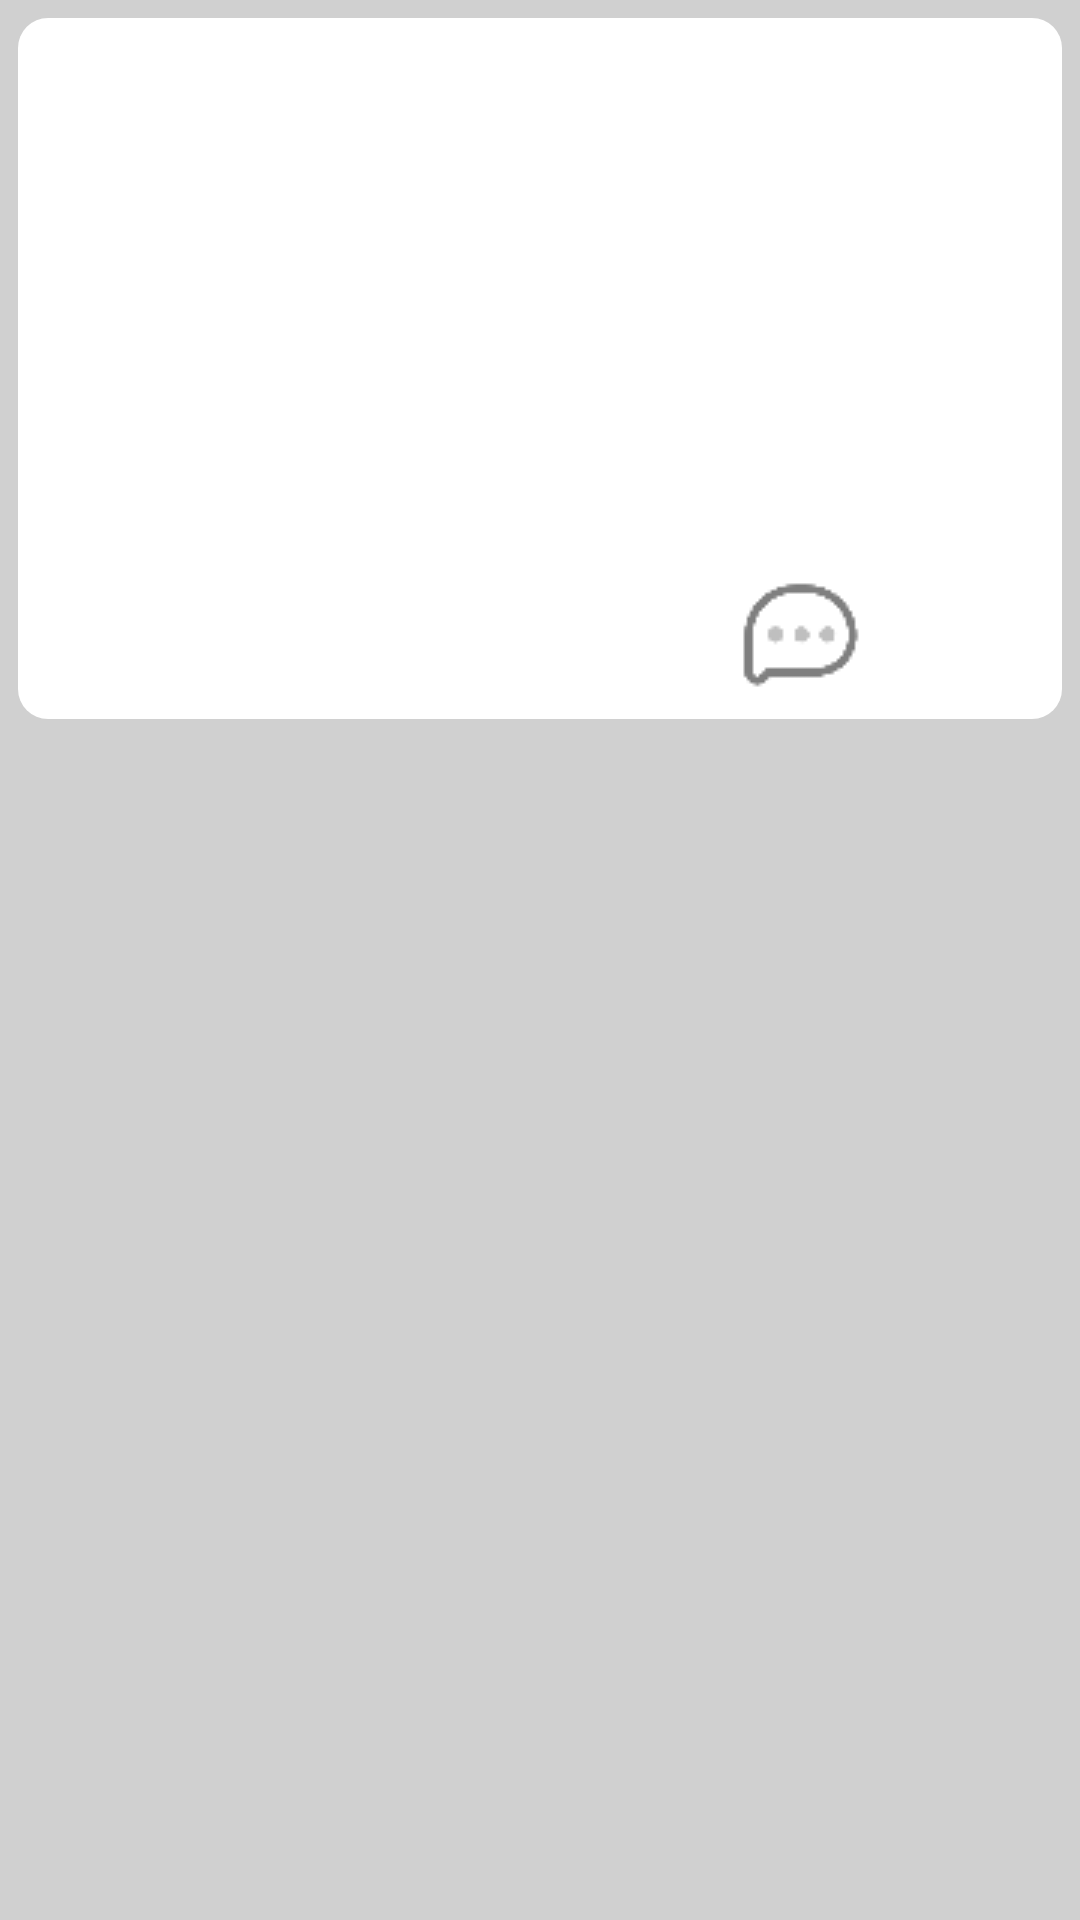

Locate icon controls on the screen. Image size 1080px×1920px, boxes as [x1=x1, y1=y1, x2=x2, y2=y2].
comment: [x1=743, y1=583, x2=859, y2=687]
